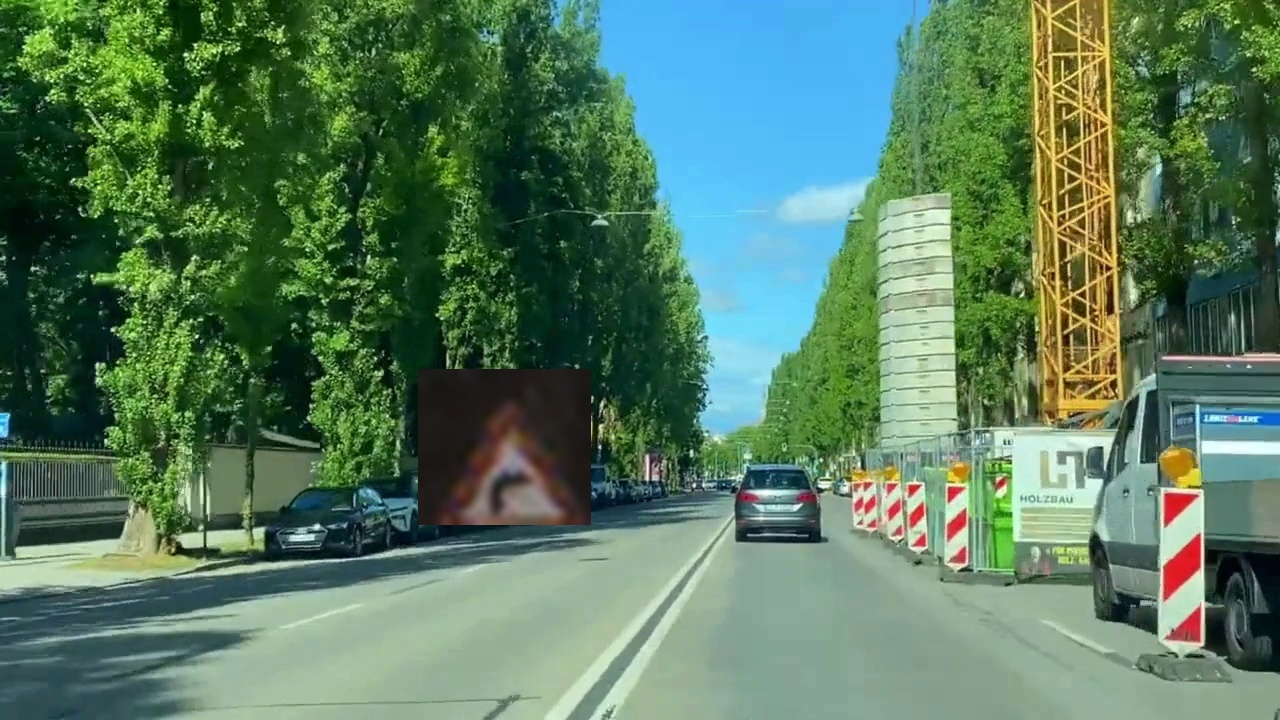Curve right: (418, 369, 591, 525)
